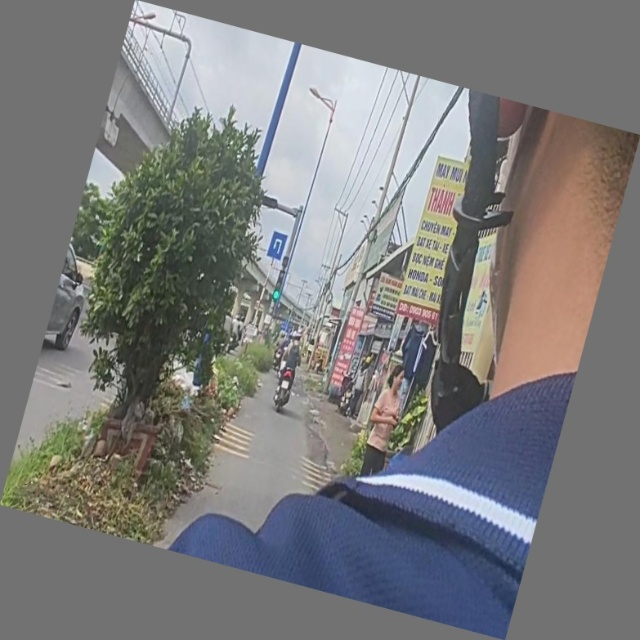I.409: (265, 229, 291, 264)
